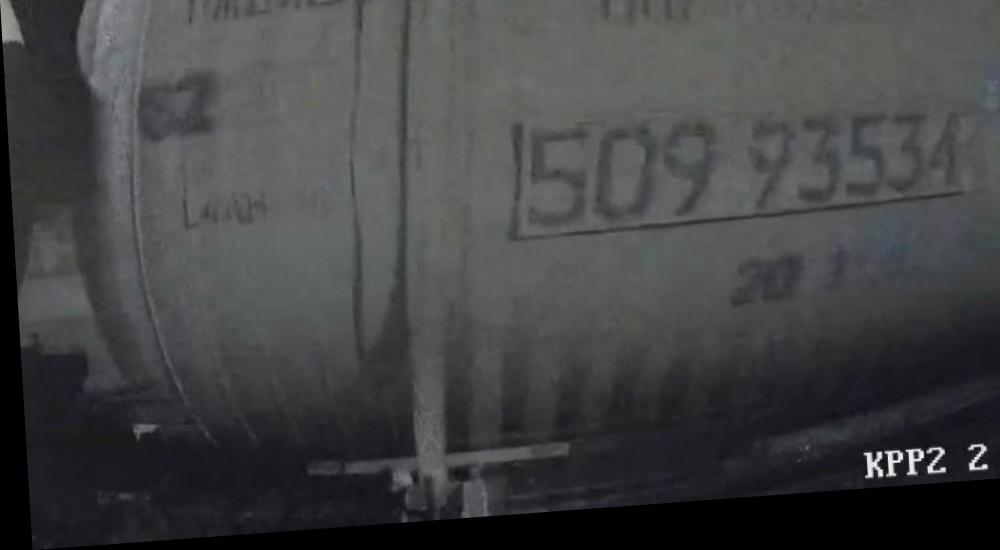Wagon-number: (514, 105, 968, 244)
